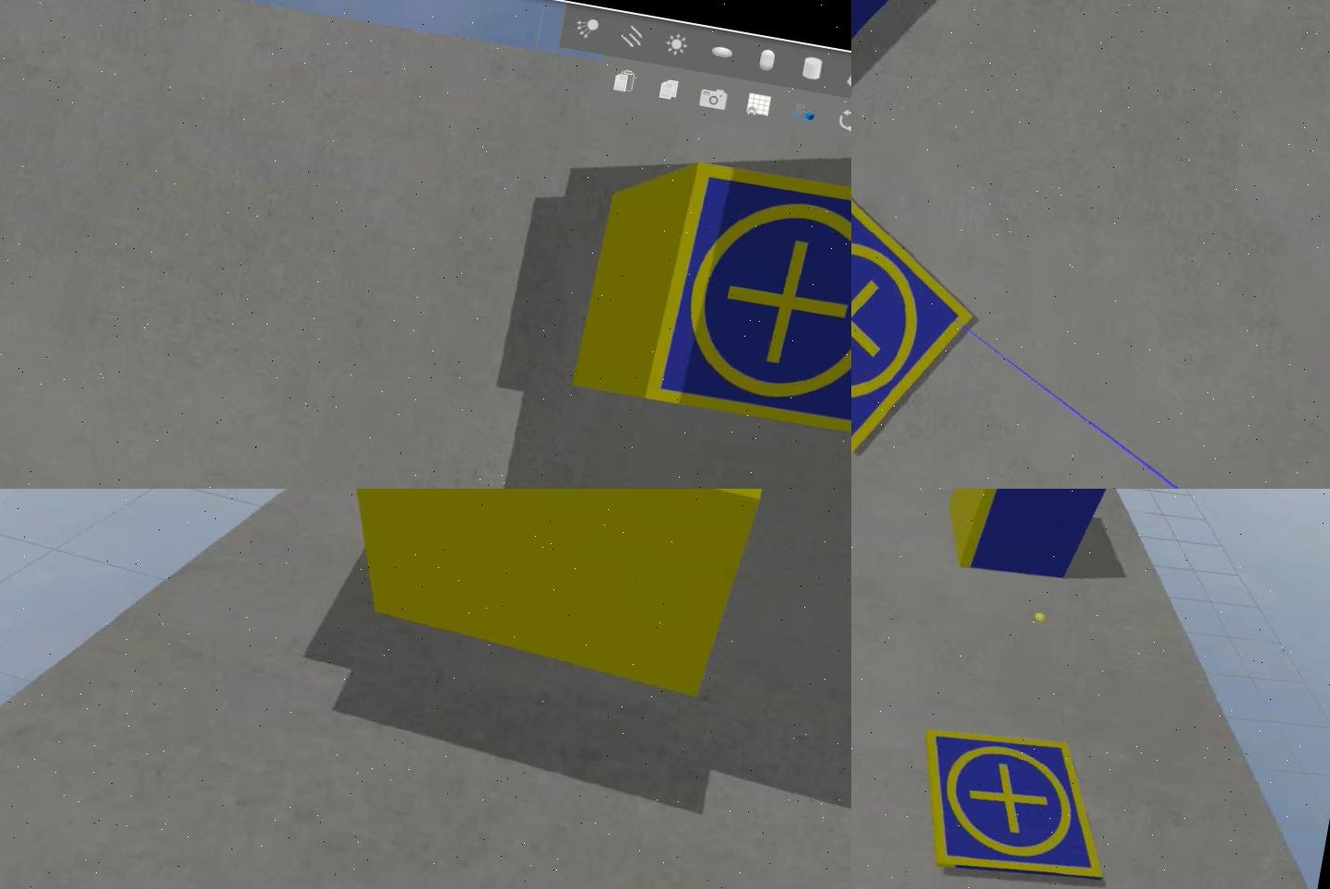small_base: (634, 157, 850, 446), (850, 169, 993, 477), (901, 721, 1121, 889)
